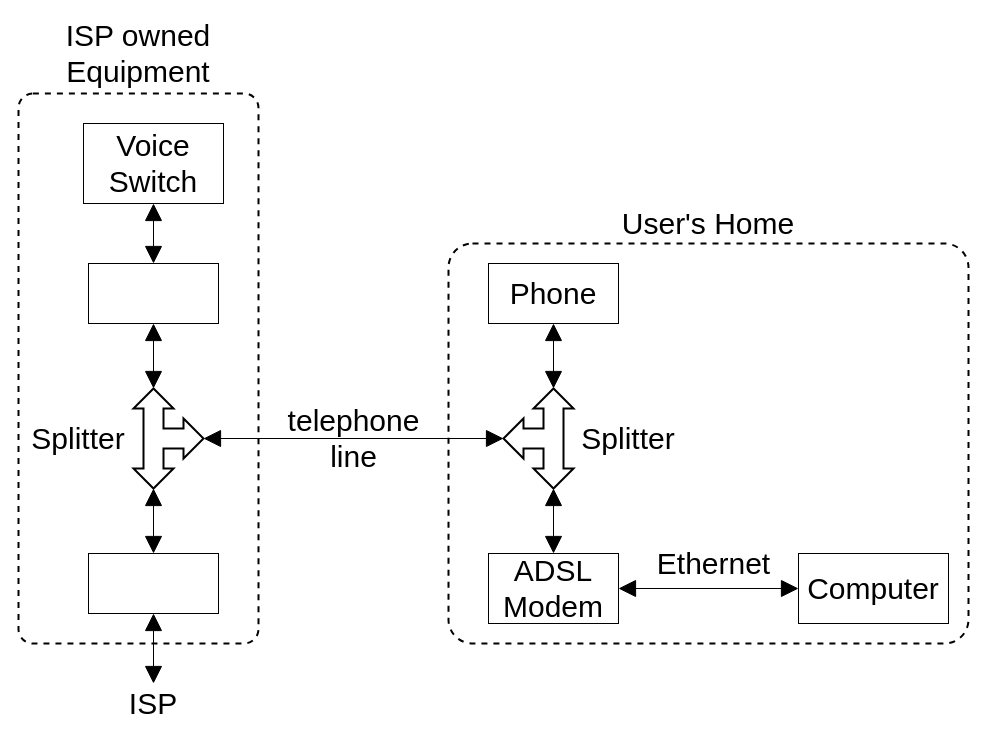
The diagram is 986 pixels wide and 740 high, and some of its shapes have lost their labels. The shapes that lost their labels are listed below. From the top down, each one's centre as x and y in pixels, then its label:
the point at 153,293: Codec
the point at 153,583: DSLAM
